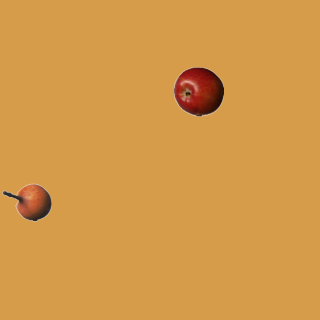Apple Braeburn: (173, 66, 223, 116)
Granadilla: (1, 177, 51, 227)
